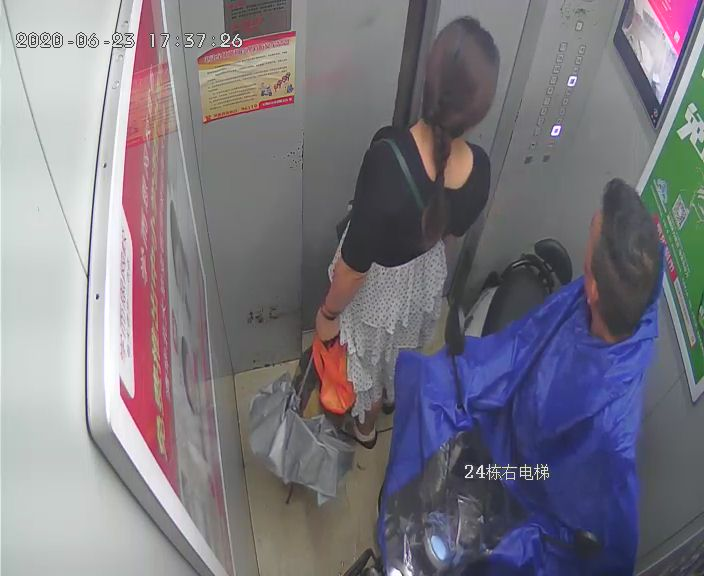Electric-bicycle: (377, 238, 576, 568)
